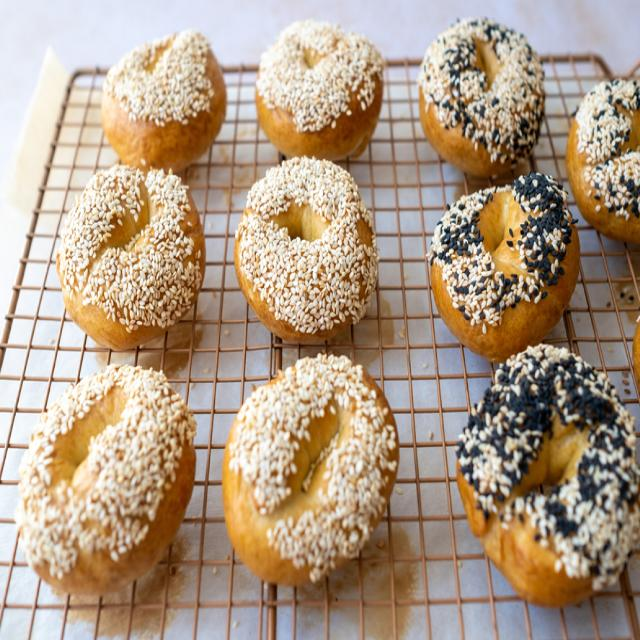Bagel: (456, 344, 640, 606), (16, 364, 196, 595), (222, 355, 399, 584), (428, 172, 580, 363), (56, 165, 205, 350), (236, 157, 379, 340), (418, 18, 545, 164), (255, 20, 384, 158), (101, 30, 226, 171)
